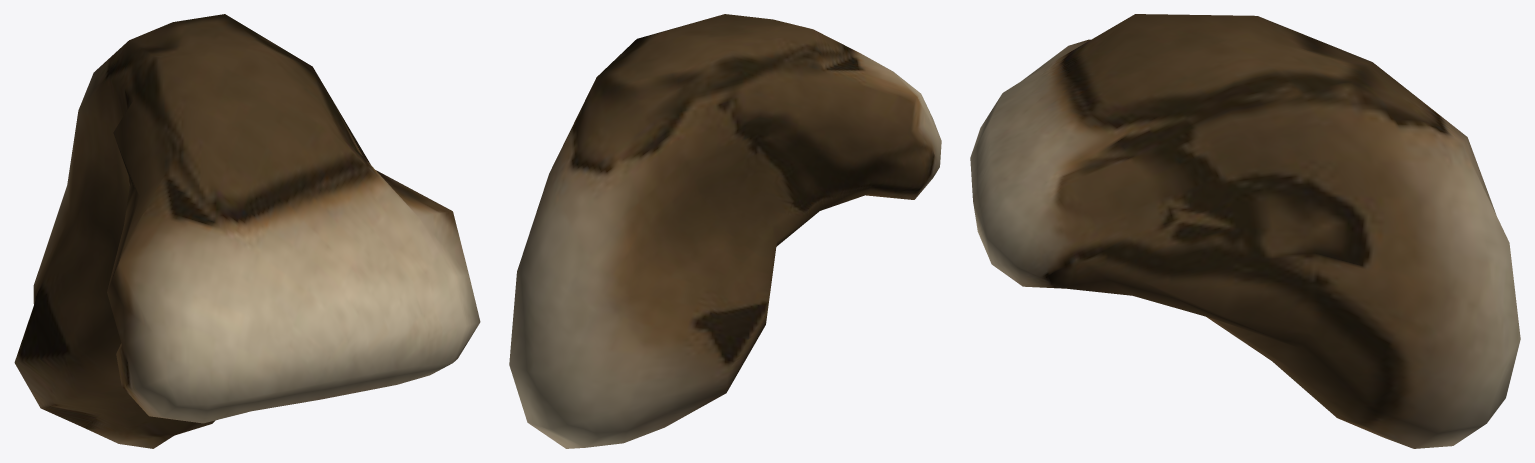
File: Distal_Carpal_III.glb
3 renders of one model, left to right at view 1: azimuth 30°, elevation 25°; view 2: azimuth 150°, elevation 25°; view 3: azimuth 270°, elevation 25°, orthographic. The views are drawn at different scales.
Visible parts, largest first — view 1: Distal_Carpal_III_Right1:Distal_Carpal_III_Right; view 2: Distal_Carpal_III_Right1:Distal_Carpal_III_Right; view 3: Distal_Carpal_III_Right1:Distal_Carpal_III_Right.
Boxes of the visible parts, x1,y1,x2,y2 form: Distal_Carpal_III_Right1:Distal_Carpal_III_Right: (14,14,480,448); Distal_Carpal_III_Right1:Distal_Carpal_III_Right: (509,14,941,448); Distal_Carpal_III_Right1:Distal_Carpal_III_Right: (970,14,1520,448).
Bounding box in the file's own units: 8.74 × 10.95 × 14.05.
Materials: 1 (1 with a texture image).
